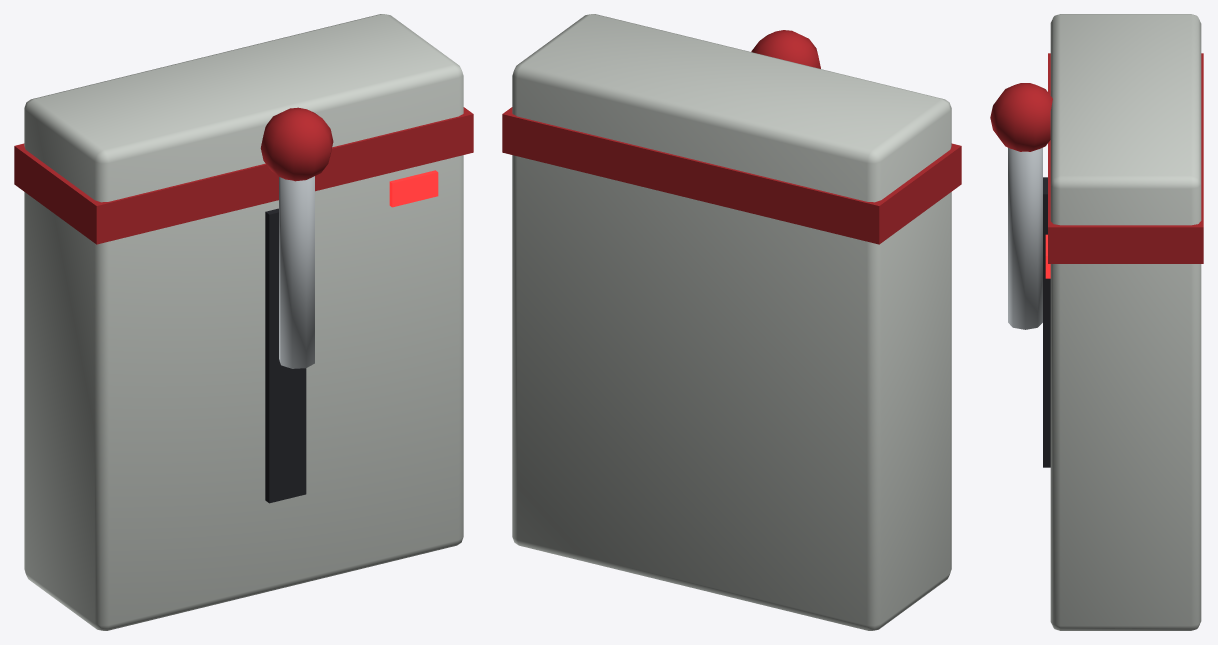
File: otc_switch.gltf
3 renders of one model, left to right at view 1: azimuth 30°, elevation 25°; view 2: azimuth 150°, elevation 25°; view 3: azimuth 270°, elevation 25°, orthographic. The views are drawn at different scales.
Parts seen in each view (by area): view 1: otc_switch_mesh, INT_lever, EMIT_red; view 2: otc_switch_mesh; view 3: otc_switch_mesh, INT_lever.
Boxes of the visible parts, x1,y1,x2,y2 form: otc_switch_mesh: (14,14,473,630); INT_lever: (279,176,314,368); EMIT_red: (389,170,438,207); otc_switch_mesh: (502,14,961,630); otc_switch_mesh: (990,14,1203,630); INT_lever: (1008,147,1042,329).
Bounding box in the file's own units: 0.82 × 1.02 × 0.425.
